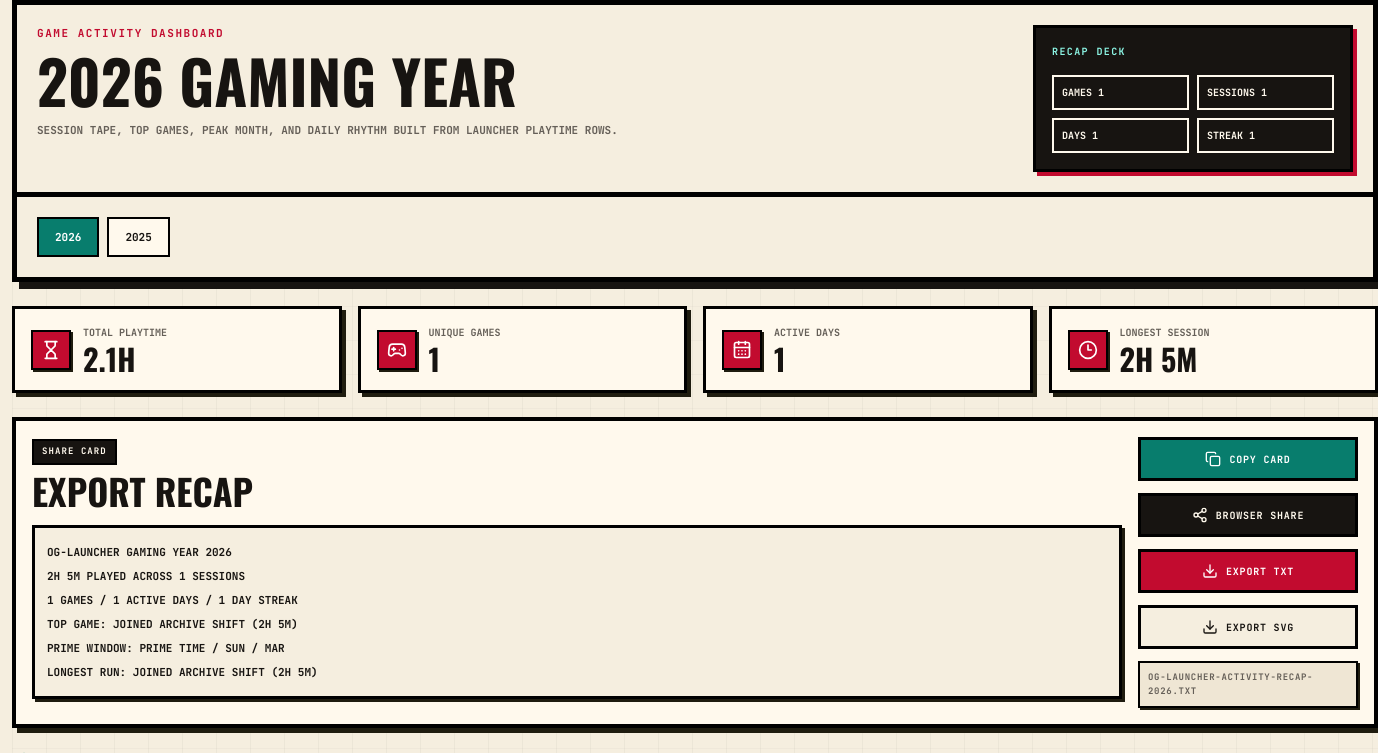
Test: GameActivityDashboardPage › keeps the TXT fallback when browser share is unavailable
Click the button "Browser Share": (1248, 515) [1138,493,1358,537]
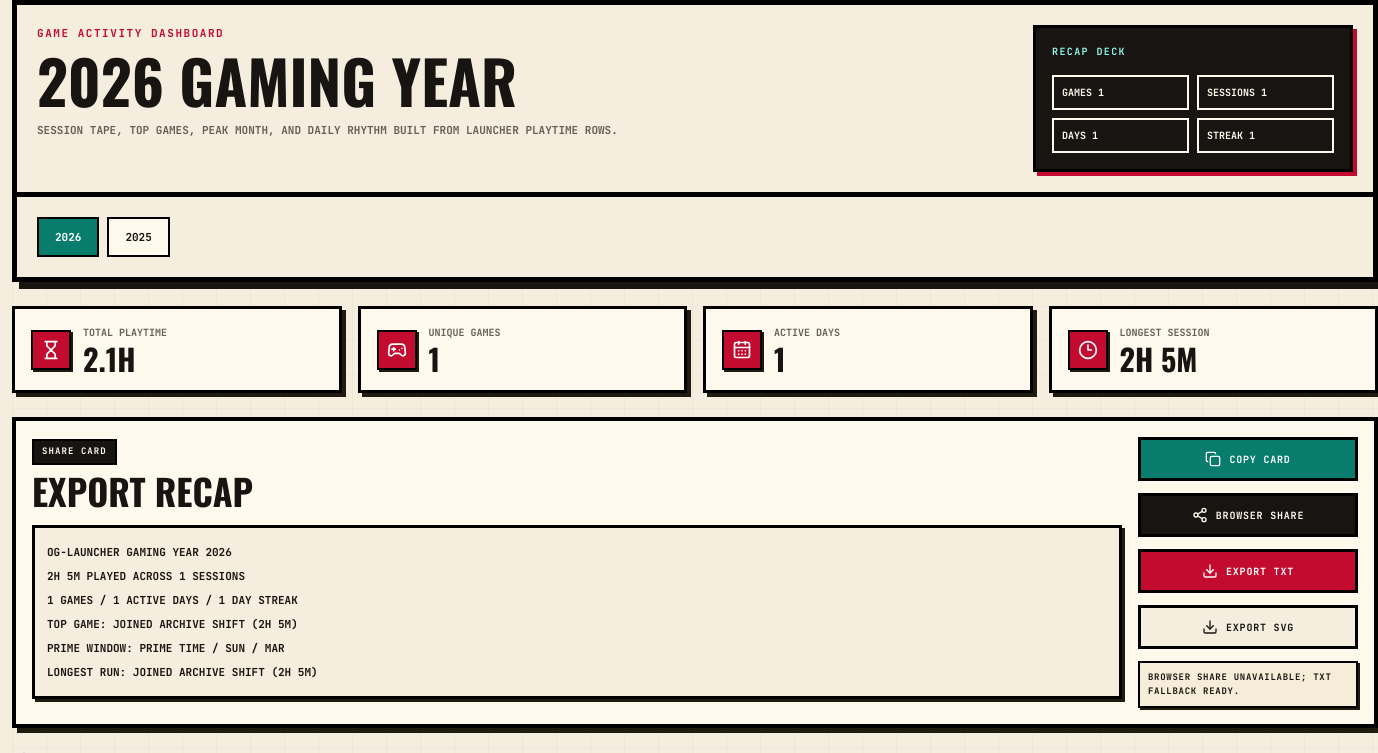
Expected: the text "Browser share unavailable; TXT fallback ready." is shown, [1138,661,1358,708]
